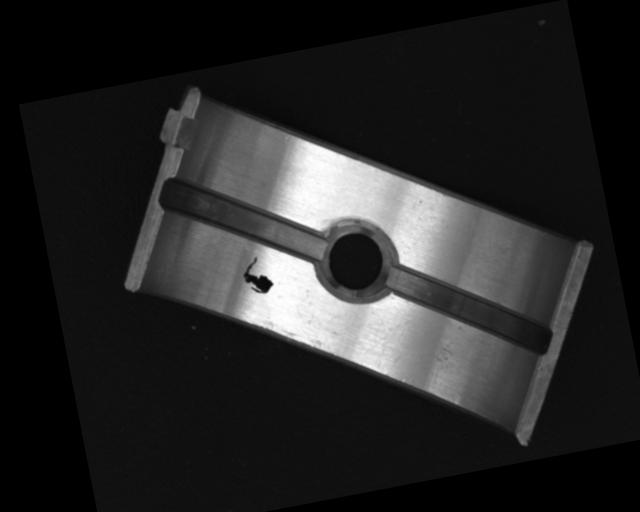blot: (239, 252, 276, 297)
gap: (382, 239, 554, 378), (158, 151, 327, 286)
hole: (314, 218, 392, 301)
